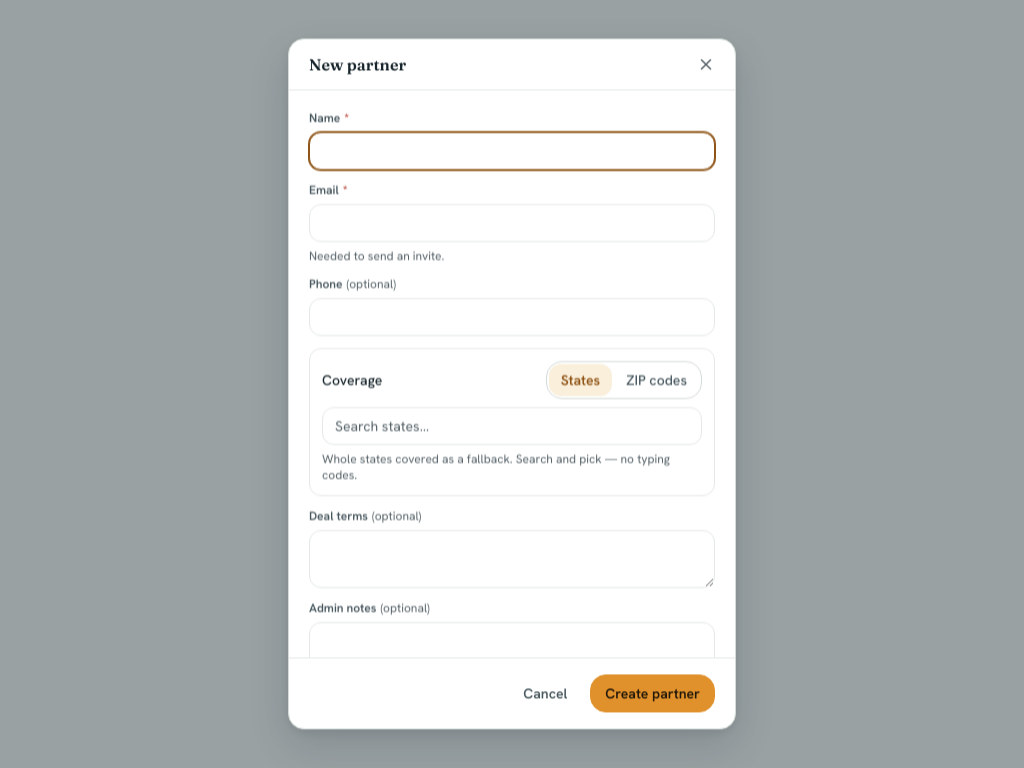
WP-C PartnerForm — create › toggles the coverage editor between the state multi-select and the ZIP textarea
Expected: the dropdown named "add covered states" is shown, [322,408,702,446]
Click the button "ZIP codes".
click(657, 381)  # box [614,365,699,397]
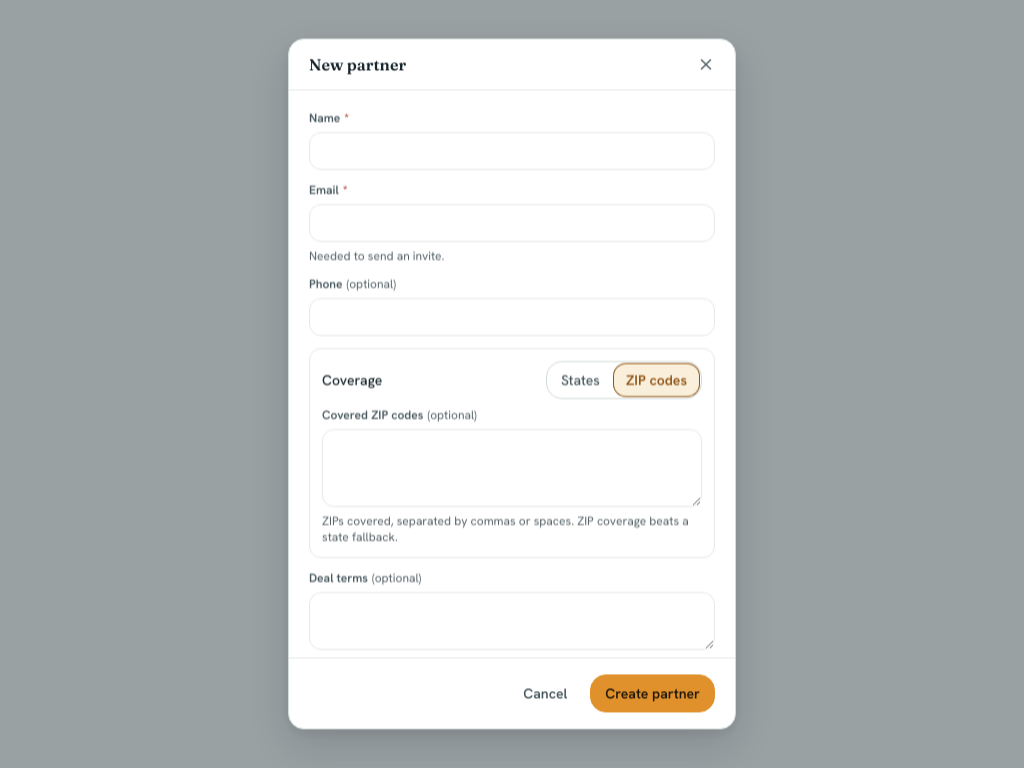
Now the text box labelled "Covered ZIP codes" is shown, box [322,430,702,508]
